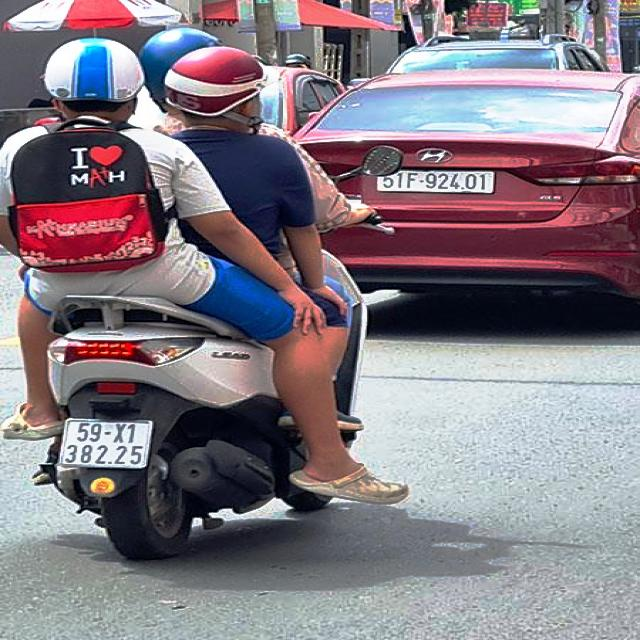license_plate: (65, 420, 151, 467), (379, 168, 497, 193)
